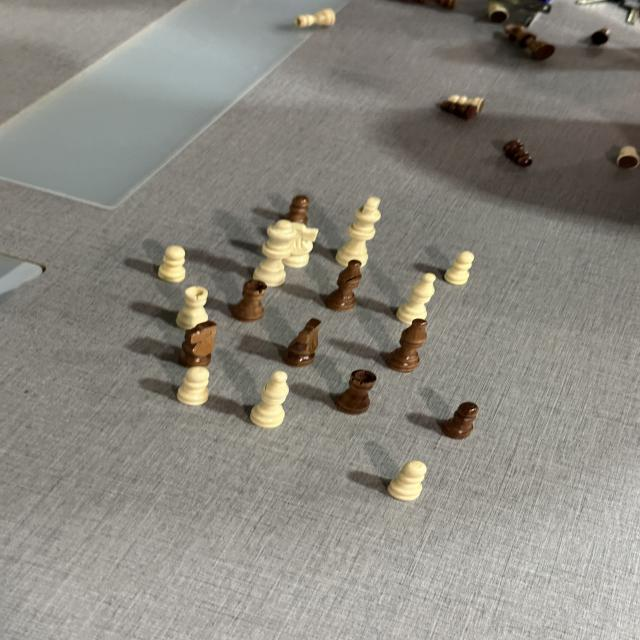Black-Bishop: (385, 319, 428, 373), (324, 260, 362, 312)
Black-Knight: (282, 318, 322, 367), (178, 320, 218, 368)
Black-Pawn: (442, 402, 479, 440), (502, 139, 532, 167), (288, 195, 309, 225), (441, 102, 467, 118)
Black-Rook: (335, 369, 377, 415), (232, 280, 267, 322)
White-Bishop: (250, 371, 290, 428), (396, 272, 436, 325)
White-King: (334, 196, 382, 268)
White-Knight: (284, 222, 319, 268)
White-Pawn: (388, 460, 428, 501), (177, 366, 210, 406), (158, 245, 186, 283), (444, 251, 474, 286), (449, 94, 477, 106)
White-Queen: (252, 219, 296, 288)
White-Rook: (176, 285, 208, 330), (294, 7, 336, 30)
